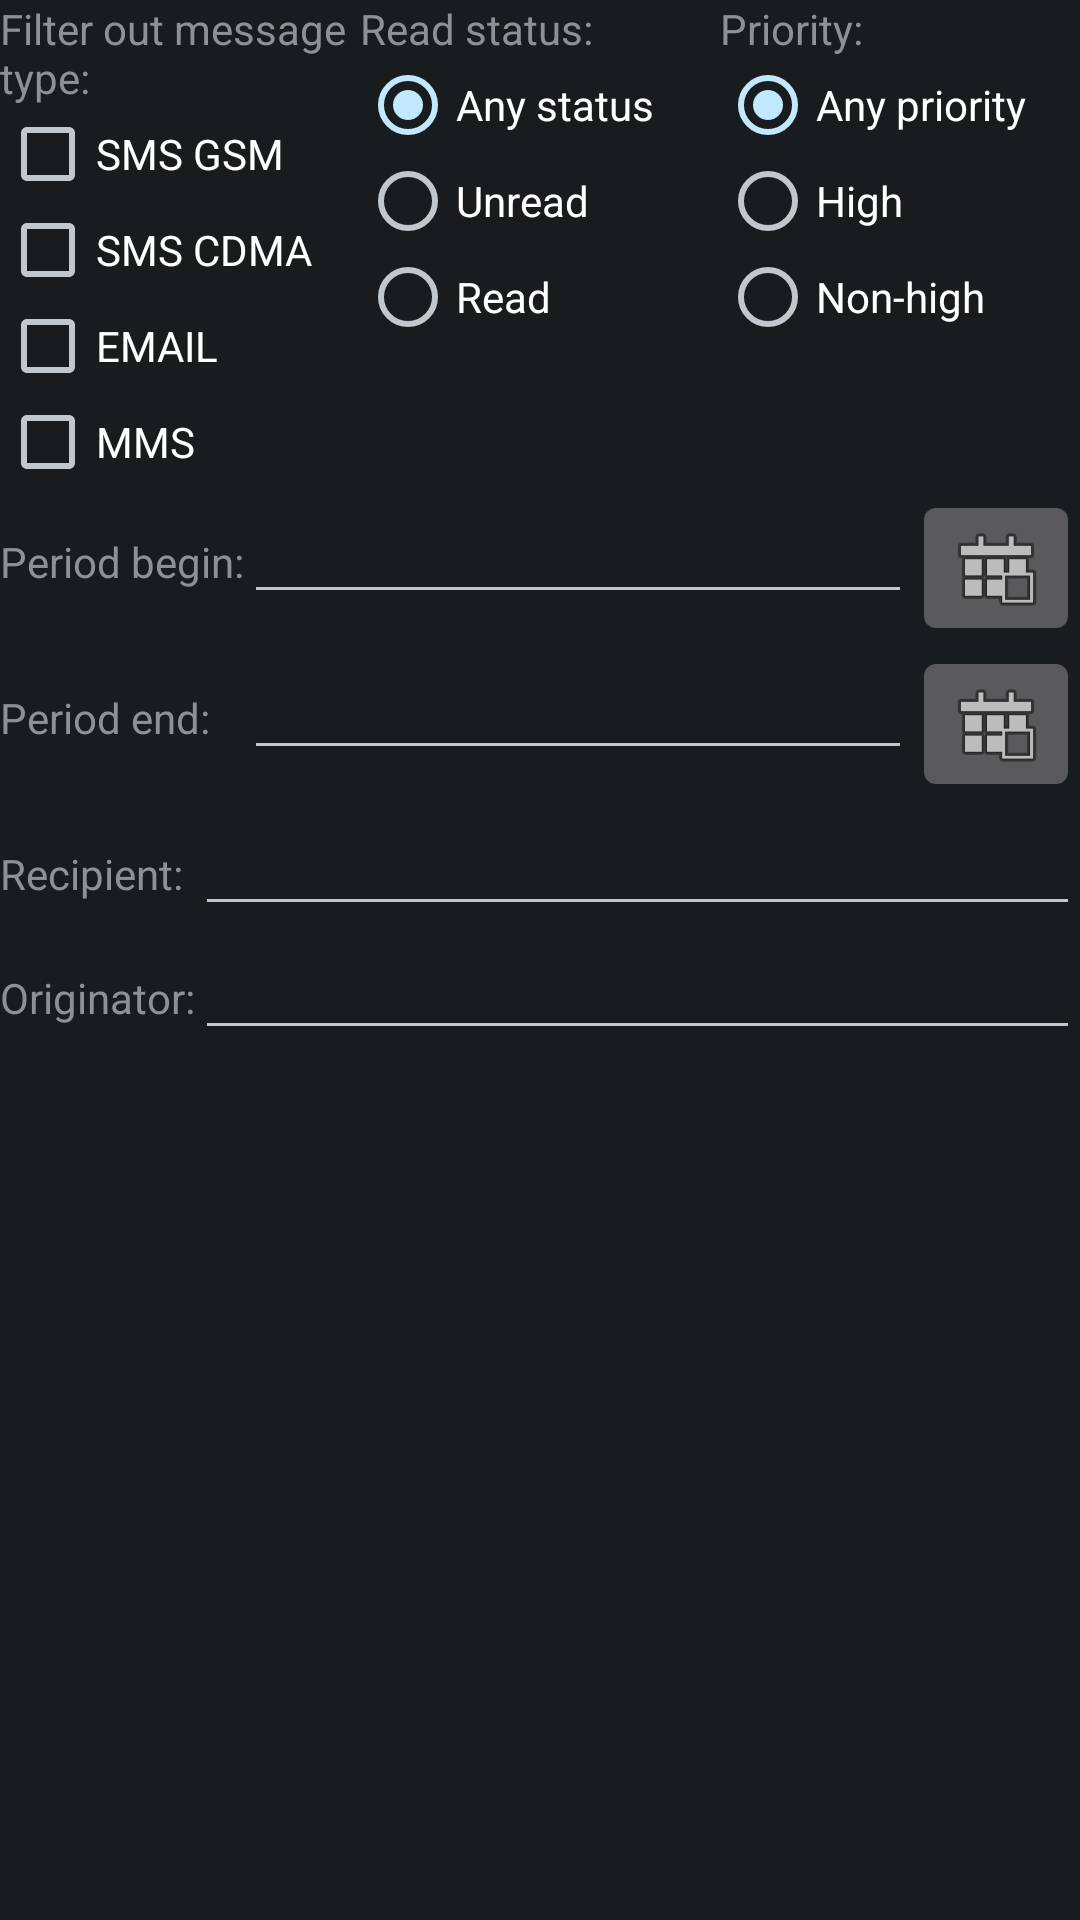

Locate icon controls on the screen. Image size 1080x1920, boxes as (x1, y1, x2, y2).
today: (924, 508, 1068, 628), (924, 664, 1068, 784)
